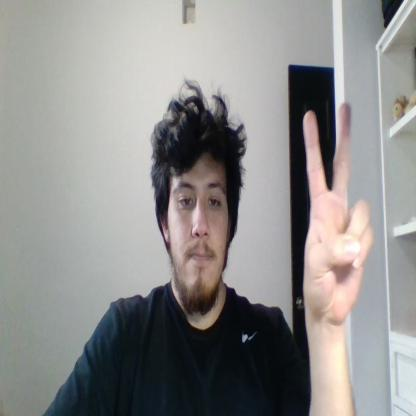V: (303, 102, 373, 324)
